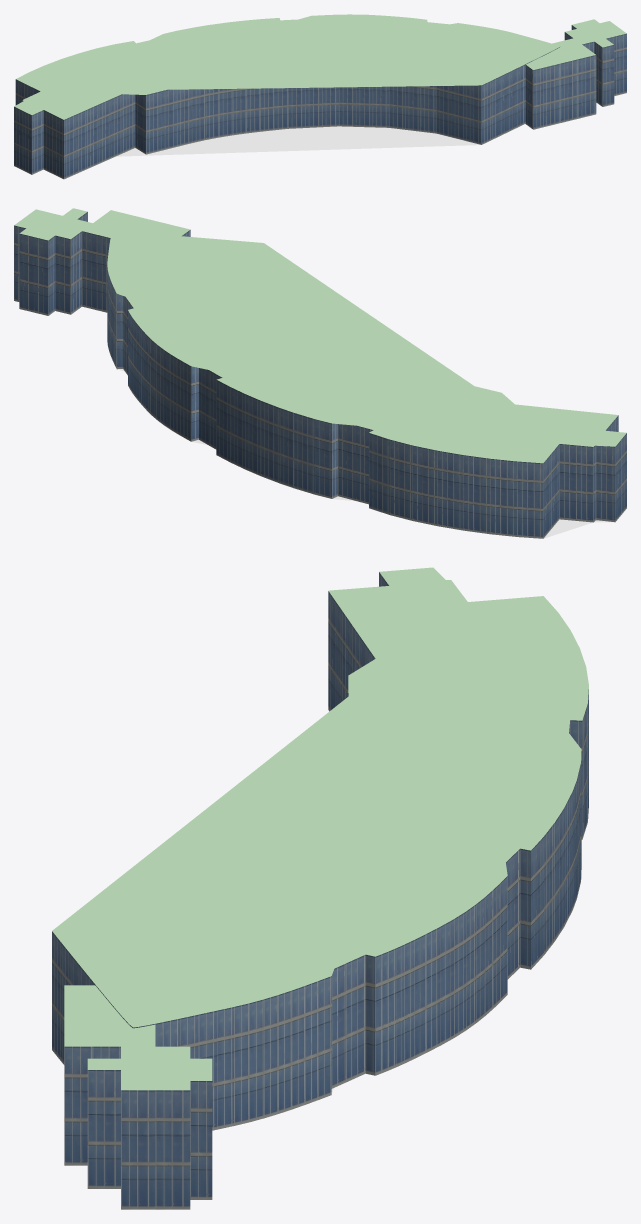
The model's file is tushuguan_xinlizixunzhongxin.fbx.
3 renders of one model, top to bottom at view 1: azimuth 30°, elevation 25°; view 2: azimuth 150°, elevation 25°; view 3: azimuth 270°, elevation 25°, orthographic. The views are drawn at different scales.
Parts seen in each view (by area): view 1: CityEngineMaterial_m, CityEngineMaterial_2_m, CityEngineMaterial_1_m; view 2: CityEngineMaterial_m, CityEngineMaterial_2_m, CityEngineMaterial_1_m; view 3: CityEngineMaterial_m, CityEngineMaterial_2_m.
Boxes of the visible parts, x1,y1,x2,y2 form: CityEngineMaterial_m: (14, 14, 626, 119); CityEngineMaterial_2_m: (14, 25, 626, 179); CityEngineMaterial_1_m: (44, 126, 480, 178); CityEngineMaterial_m: (14, 208, 626, 463); CityEngineMaterial_2_m: (14, 212, 626, 538); CityEngineMaterial_1_m: (118, 369, 613, 538); CityEngineMaterial_m: (52, 567, 588, 1090); CityEngineMaterial_2_m: (52, 572, 588, 1209).
Bounding box in the file's own units: 188 × 20.14 × 81.77.
